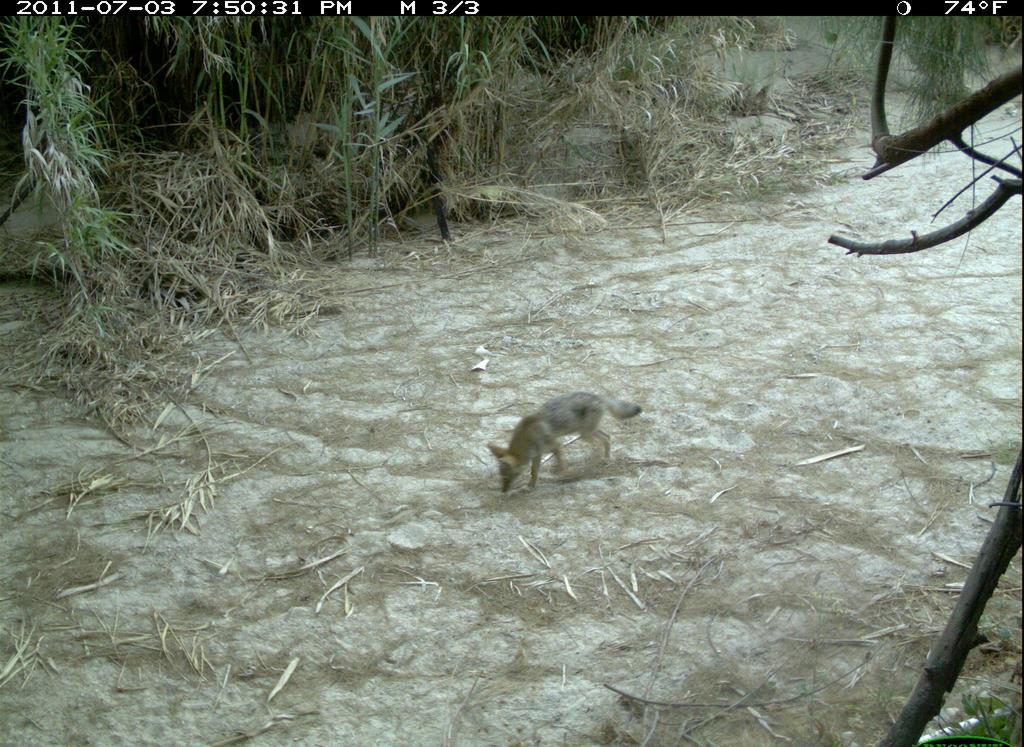coyote: (478, 383, 649, 502)
